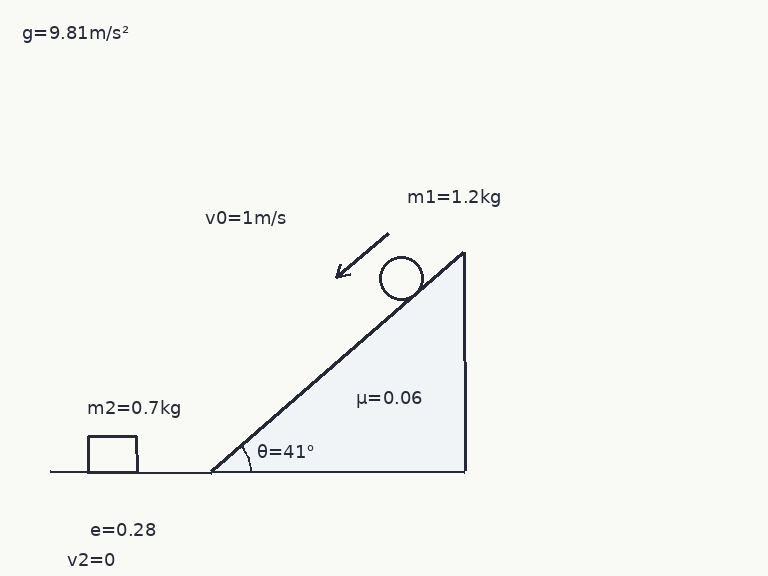ball: (377, 254, 425, 302)
block: (86, 434, 138, 474)
ramp: (209, 250, 466, 474)
